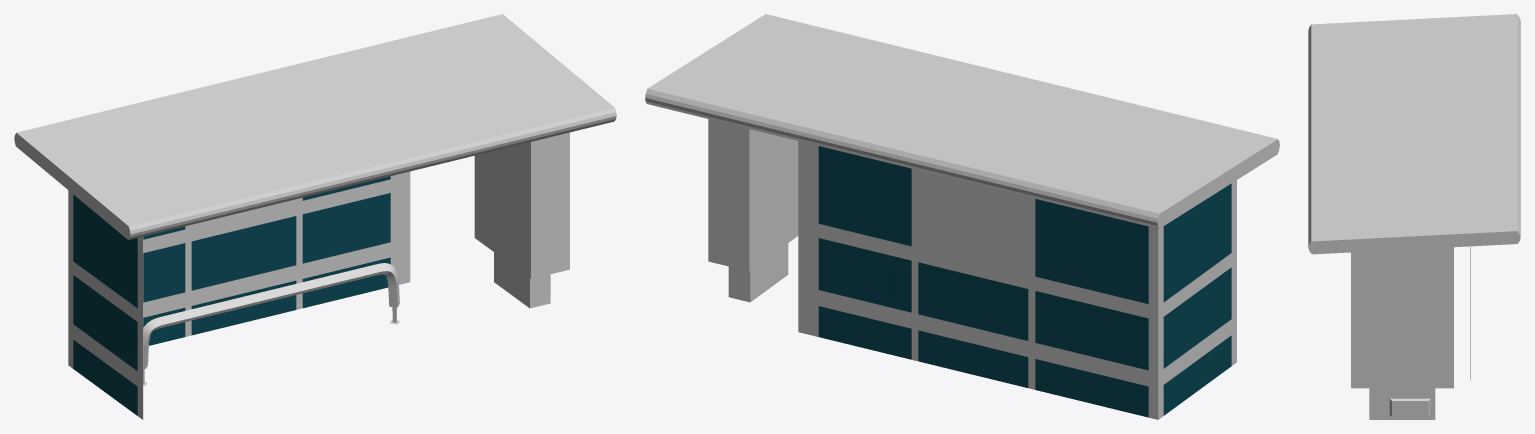
Rendered from city_bus_stop.fbx.
3 renders of one model, left to right at view 1: azimuth 30°, elevation 25°; view 2: azimuth 150°, elevation 25°; view 3: azimuth 270°, elevation 25°, orthographic. The views are drawn at different scales.
Parts seen in each view (by area): view 1: city_bus_stop, city_bus_stop_glass; view 2: city_bus_stop, city_bus_stop_glass; view 3: city_bus_stop.
Boxes of the visible parts, x1=… form: city_bus_stop: x1=14, y1=14, x2=616, y2=419; city_bus_stop_glass: x1=73, y1=176, x2=390, y2=415; city_bus_stop: x1=645, y1=14, x2=1279, y2=419; city_bus_stop_glass: x1=818, y1=146, x2=1231, y2=417; city_bus_stop: x1=1308, y1=14, x2=1520, y2=419.
Size of the model in its own units: 889 by 389 by 368.
